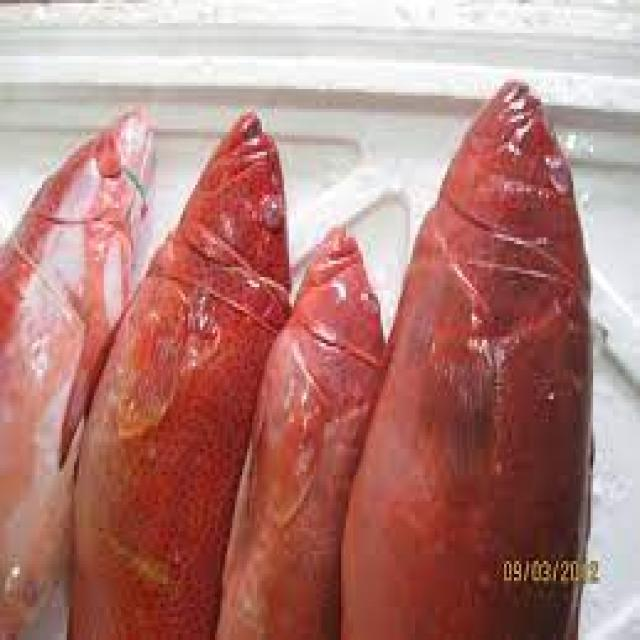Plectropomus-leopardus: (356, 22, 634, 640), (73, 87, 342, 637)
